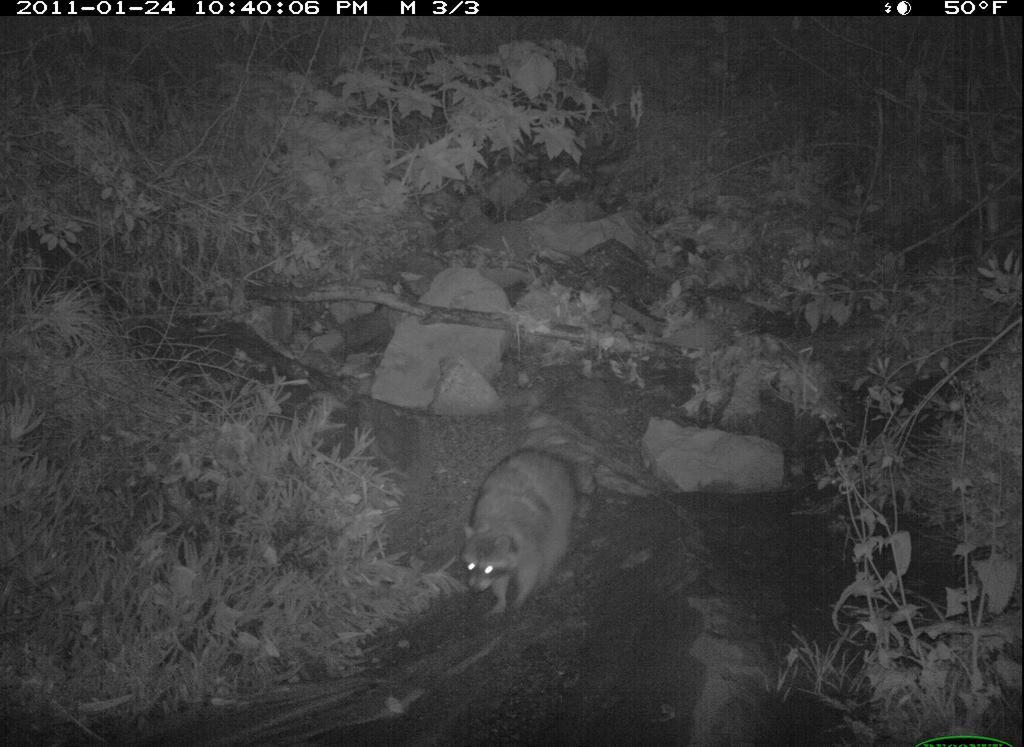raccoon: (451, 443, 582, 616)
